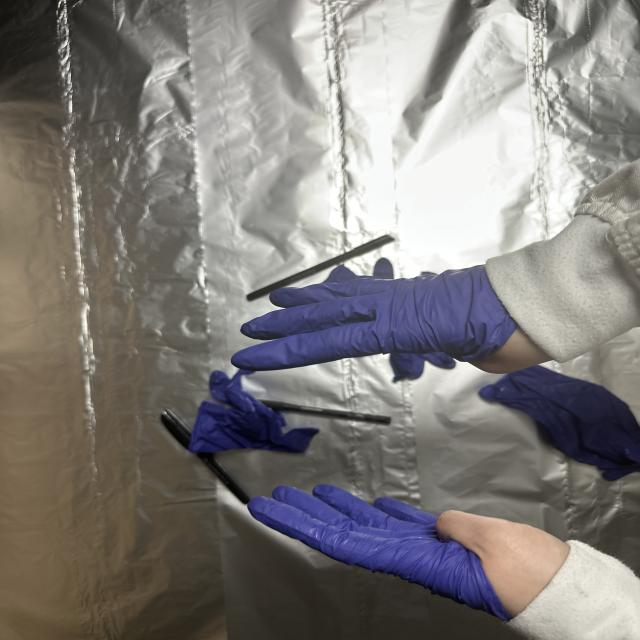glove_partial: (247, 474, 564, 626), (228, 263, 556, 380)
